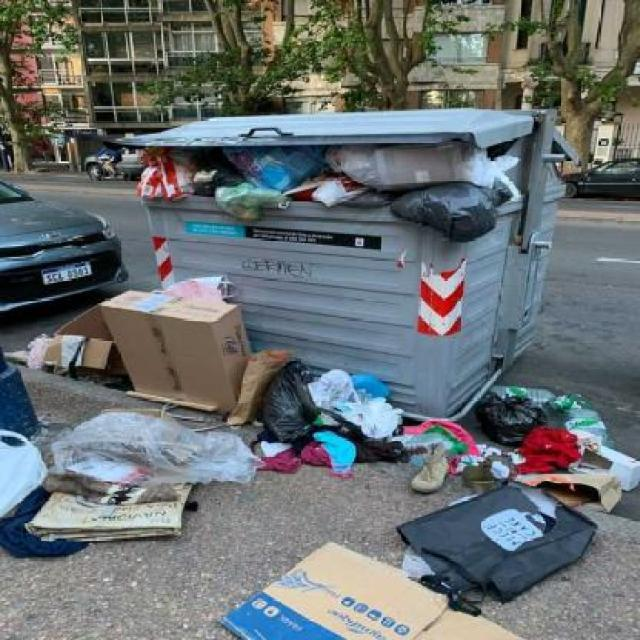garbage: (71, 292, 425, 463), (128, 148, 526, 230), (212, 551, 540, 640), (485, 385, 640, 512), (1, 350, 66, 556), (429, 421, 489, 606), (76, 469, 205, 544), (500, 515, 594, 548)
